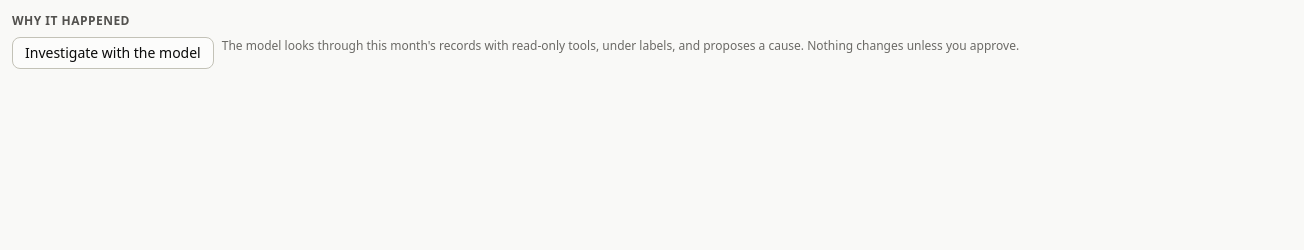
Test: InvestigationSection › investigates on request and shows the checked finding with what it looked at
Step 1. Click the button "Investigate with the model" → (113, 53), box [12,37,214,69]
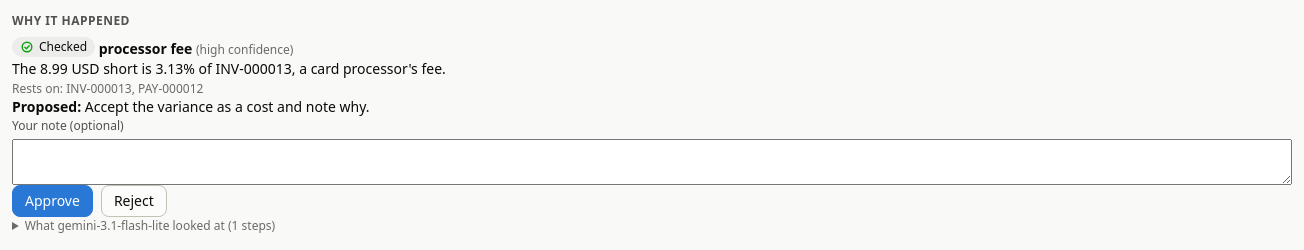
Expected: the text "processor fee" is shown, [99,39,192,58]
Expected: the text "Rests on: INV-000013, PAY-000012" is shown, [12,80,203,97]
Expected: the text "Proposed: Accept the variance as a cost and note why." is shown, [12,97,370,116]
